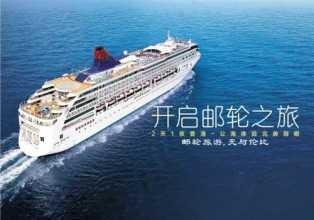youlun: (16, 28, 201, 156)
